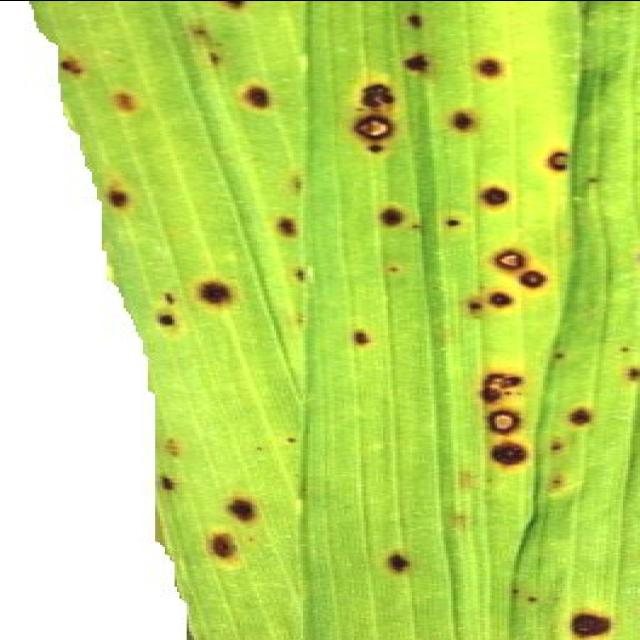Brown_Spot: (352, 56, 436, 150), (230, 74, 318, 129), (346, 191, 446, 233), (97, 168, 153, 232), (148, 426, 202, 492), (87, 80, 172, 120), (199, 526, 279, 568), (534, 140, 616, 180), (458, 180, 543, 217), (550, 607, 638, 640), (456, 366, 540, 399), (476, 437, 548, 475), (449, 282, 521, 320), (228, 495, 303, 527), (461, 244, 543, 272), (260, 214, 334, 244), (337, 314, 385, 360), (443, 100, 498, 138), (56, 55, 121, 87), (482, 406, 546, 436), (369, 548, 441, 574), (465, 53, 531, 79), (546, 402, 604, 431), (196, 272, 240, 310), (518, 269, 570, 293), (408, 6, 453, 33), (199, 0, 272, 15), (134, 308, 182, 328), (599, 362, 640, 382)
